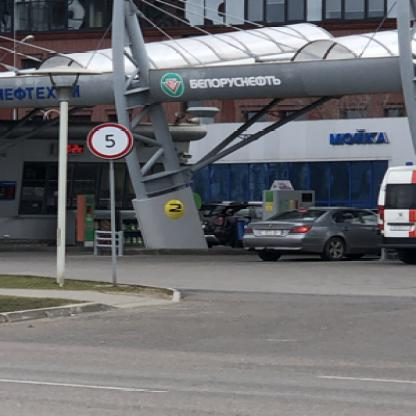speedlimit: (85, 121, 132, 158)
